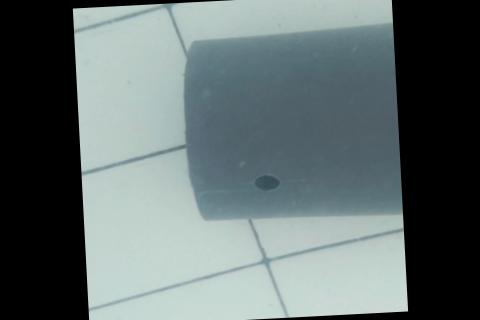kebocoran: (252, 173, 280, 194)
